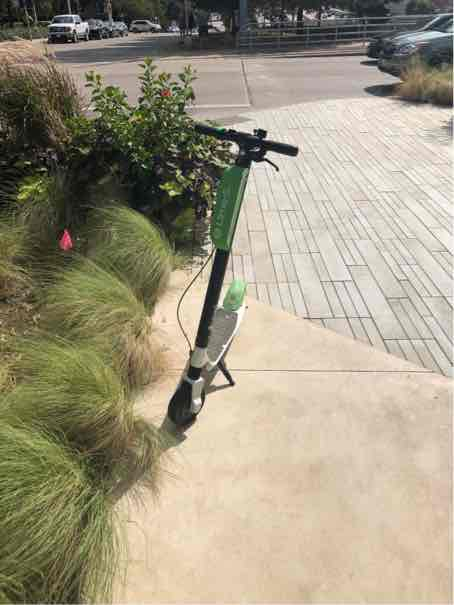scooter: (170, 106, 336, 445)
